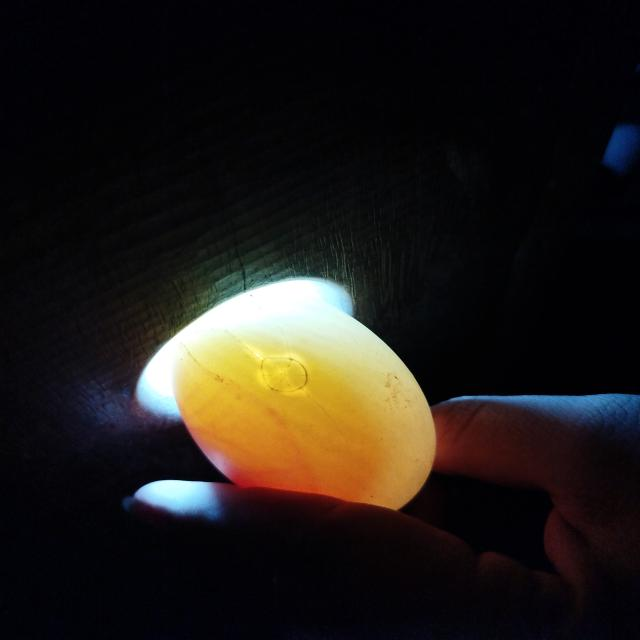Rachadura: (261, 358, 307, 391)
